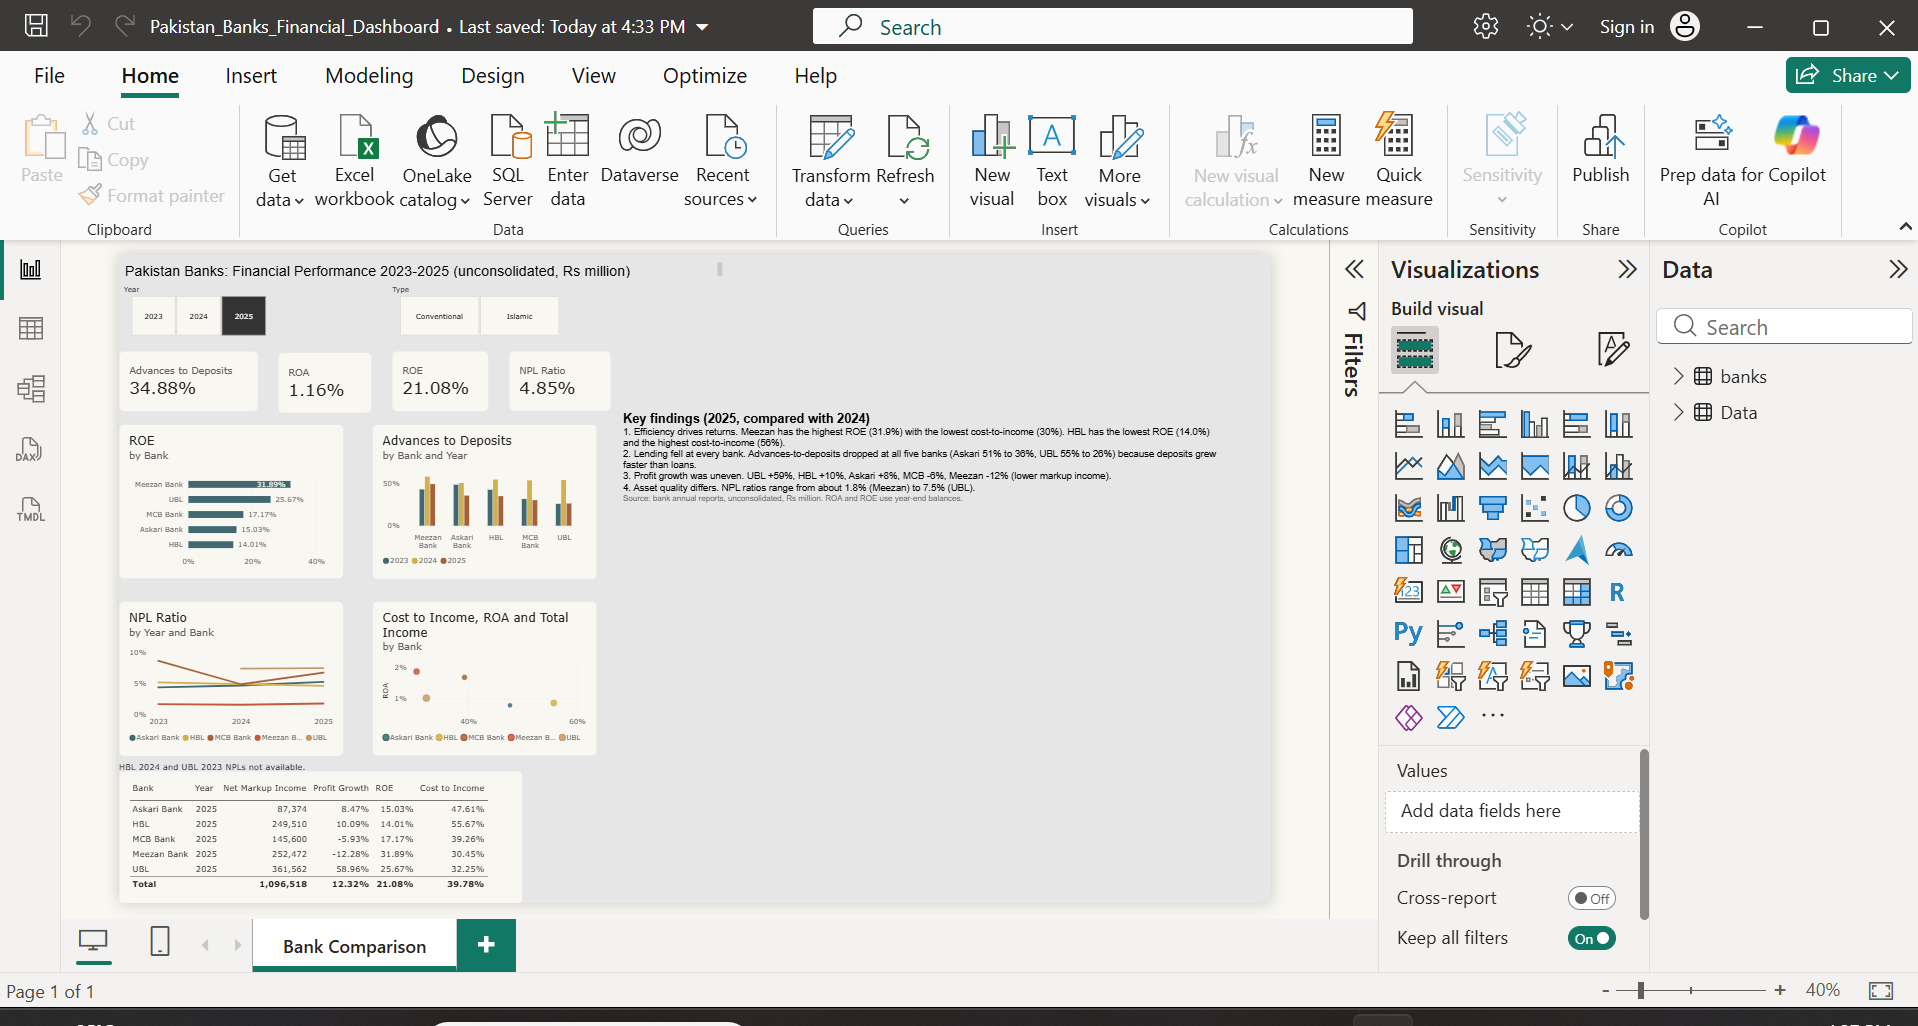

The dashboard page shown, as its layout file describes it:
{"tool":"powerbi","page":{"name":"Bank Comparison","canvas":[1920,1080],"ordinal":0},"visuals":[{"type":"textbox","box":[10,11.2,995,25],"z":0},{"type":"slicer","fields":{"Values":["Data.Year"]},"box":[0,48.8,263.8,86.2],"z":1000},{"type":"slicer","fields":{"Values":["banks.Type"]},"box":[447.5,48.8,305,86.2],"z":2000},{"type":"cardVisual","fields":{"Data":["Data.Advances to Deposits"]},"box":[0,158.8,232.5,101.2],"z":3000},{"type":"cardVisual","fields":{"Data":["Data.ROA"]},"box":[265.8,161.2,156.2,101.2],"z":4000},{"type":"cardVisual","fields":{"Data":["Data.ROE"]},"box":[455.4,160,161.2,101.2],"z":5000},{"type":"cardVisual","fields":{"Data":["Data.NPL Ratio"]},"box":[650,160,170,100],"z":6000},{"type":"clusteredBarChart","fields":{"Category":["banks.Bank"],"Y":["Data.ROE"]},"box":[0,282.5,373.8,257.5],"z":7000},{"type":"clusteredColumnChart","fields":{"Category":["banks.Bank"],"Series":["Data.Year"],"Y":["Data.Advances to Deposits"]},"box":[422.5,282.5,374,258],"z":8000},{"type":"lineChart","fields":{"Category":["Data.Year"],"Series":["banks.Bank"],"Y":["Data.NPL Ratio"]},"box":[0,576.2,374,258],"z":9000},{"type":"textbox","box":[0,843.8,373.8,30],"z":10000},{"type":"scatterChart","fields":{"Series":["banks.Bank"],"Size":["Data.Total Income"],"X":["Data.Cost to Income"],"Y":["Data.ROA"]},"box":[422.5,576.2,373.8,257.5],"z":11000},{"type":"tableEx","fields":{"Values":["banks.Bank","Data.Year","Data.Net Markup Income","Data.Profit Growth","Data.ROE","Data.Cost to Income"]},"box":[0,858.8,672.5,221.2],"z":12000},{"type":"textbox","box":[840,260,1000,330],"z":13000}]}

Visuals, with their boxes on the page's 1920x1080 design canvas (x1, y1, x2, y2). These are canvas units, not pixel positions in the 1918x1026 screenshot, which may show the page scaled, cropped or inside an application window:
textbox: 10, 11, 1005, 36
slicer - Data.Year: 0, 49, 264, 135
slicer - banks.Type: 448, 49, 752, 135
cardVisual - Data.Advances to Deposits: 0, 159, 232, 260
cardVisual - Data.ROA: 266, 161, 422, 262
cardVisual - Data.ROE: 455, 160, 617, 261
cardVisual - Data.NPL Ratio: 650, 160, 820, 260
clusteredBarChart - banks.Bank x Data.ROE: 0, 282, 374, 540
clusteredColumnChart - banks.Bank x Data.Year: 422, 282, 796, 540
lineChart - Data.Year x banks.Bank: 0, 576, 374, 834
textbox: 0, 844, 374, 874
scatterChart - banks.Bank x Data.Total Income: 422, 576, 796, 834
tableEx - banks.Bank x Data.Year: 0, 859, 672, 1080
textbox: 840, 260, 1840, 590
